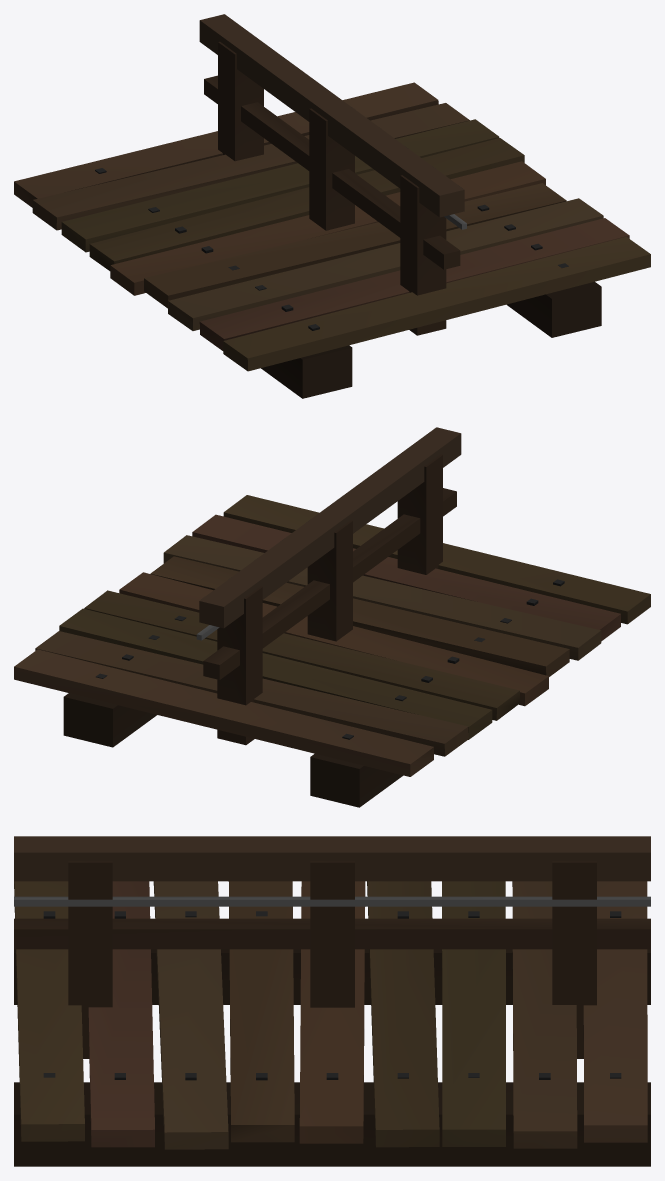
Rendered from bridge.glb.
The picture shows the model from 3 angles, top to bottom: view 1: azimuth 30°, elevation 25°; view 2: azimuth 150°, elevation 25°; view 3: azimuth 270°, elevation 25°; orthographic projection. The views are drawn at different scales.
Visible parts, largest first — view 1: v0, v1; view 2: v0, v1; view 3: v0, v1.
Boxes of the visible parts, x1=… form: v0: x1=14, y1=82, x2=650, y2=398; v1: x1=199, y1=14, x2=466, y2=335; v0: x1=14, y1=495, x2=650, y2=807; v1: x1=196, y1=427, x2=461, y2=745; v0: x1=14, y1=881, x2=650, y2=1166; v1: x1=14, y1=836, x2=650, y2=1058.
Bounding box in the file's own units: 1.01 × 0.39 × 1.
